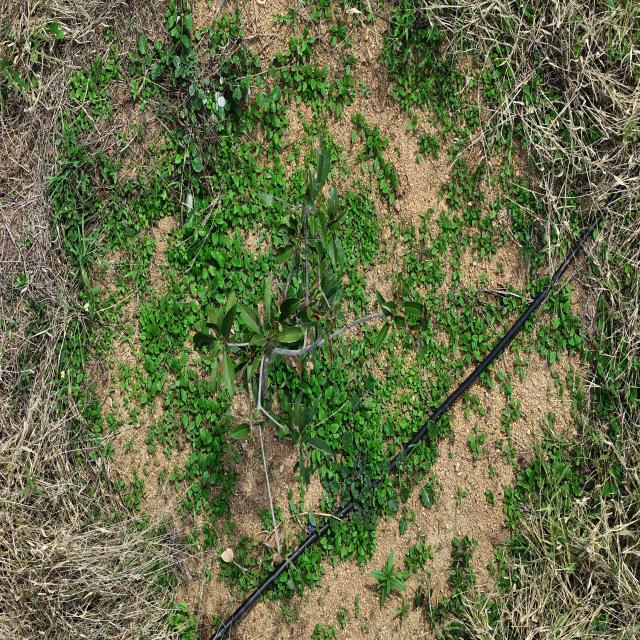mangoTree: (188, 135, 434, 492)
